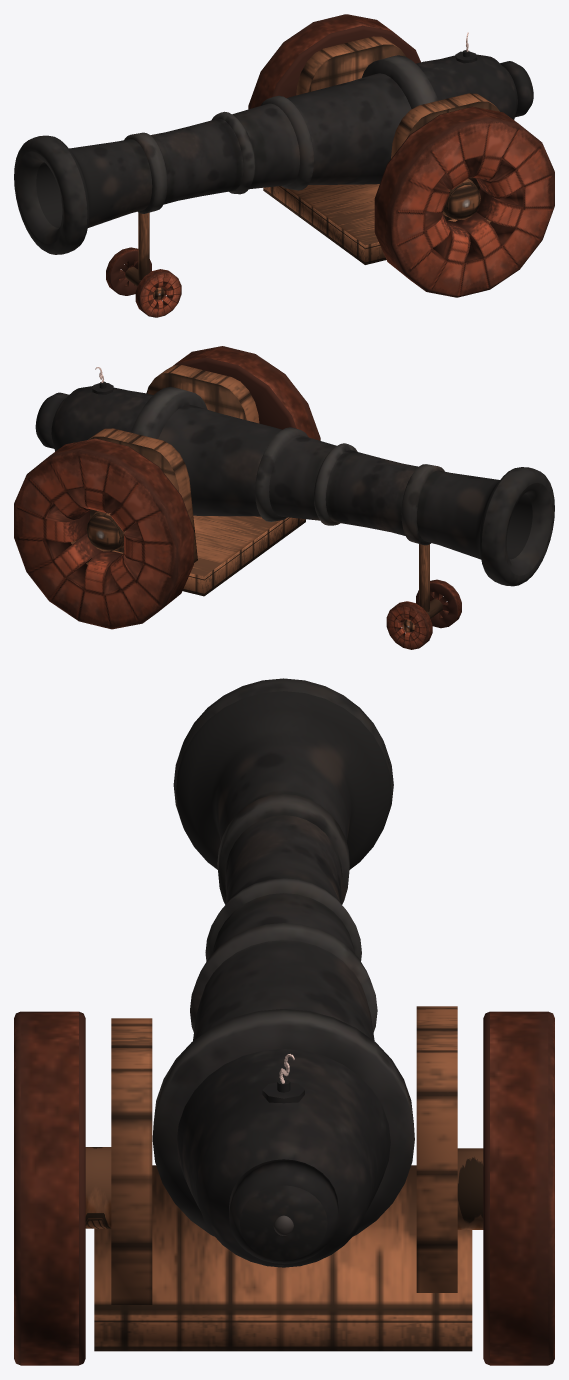
The model's file is cannon.glb.
The picture shows the model from 3 angles, top to bottom: view 1: azimuth 30°, elevation 25°; view 2: azimuth 150°, elevation 25°; view 3: azimuth 270°, elevation 25°; orthographic projection. The views are drawn at different scales.
Visible parts, largest first — view 1: Cylinder.001, Circle.001, Cube, Circle, Cube.001, Cube.002, Circle.002, Circle.003, Cylinder.002, Cylinder.004; view 2: Cylinder.001, Circle, Cube, Circle.001, Cube.002, Cube.001, Circle.003, Circle.002, Cylinder, Cylinder.004; view 3: Cylinder.001, Cube, Circle, Circle.001, Cube.001, Cube.002, Cylinder, Cylinder.002.
Part boxes in pixels (left/top/right/bottom): Cylinder.001: left=14, top=50, right=533, bottom=254; Circle.001: left=374, top=106, right=554, bottom=297; Cube: left=263, top=184, right=490, bottom=264; Circle: left=248, top=14, right=420, bottom=109; Cube.001: left=296, top=36, right=405, bottom=95; Cube.002: left=391, top=93, right=499, bottom=220; Circle.002: left=135, top=269, right=181, bottom=317; Circle.003: left=106, top=247, right=151, bottom=295; Cylinder.002: left=442, top=178, right=480, bottom=219; Cylinder.004: left=138, top=212, right=149, bottom=279; Cylinder.001: left=35, top=381, right=554, bottom=586; Circle: left=14, top=438, right=193, bottom=629; Cube: left=71, top=515, right=305, bottom=596; Circle.001: left=173, top=346, right=320, bottom=440; Cube.002: left=146, top=365, right=259, bottom=423; Cube.001: left=76, top=428, right=197, bottom=562; Circle.003: left=386, top=601, right=432, bottom=649; Circle.002: left=416, top=579, right=461, bottom=628; Cylinder: left=86, top=511, right=125, bottom=551; Cylinder.004: left=419, top=544, right=429, bottom=611; Cylinder.001: left=152, top=678, right=414, bottom=1267; Cube: left=94, top=1165, right=472, bottom=1351; Circle: left=483, top=1011, right=554, bottom=1365; Circle.001: left=14, top=1011, right=85, bottom=1365; Cube.001: left=416, top=1006, right=457, bottom=1292; Cube.002: left=111, top=1018, right=152, bottom=1304; Cylinder: left=457, top=1148, right=483, bottom=1229; Cylinder.002: left=85, top=1147, right=111, bottom=1228.
Bounding box in the file's own units: 5.02 × 1.88 × 2.59.
4 materials, 3 textured.
